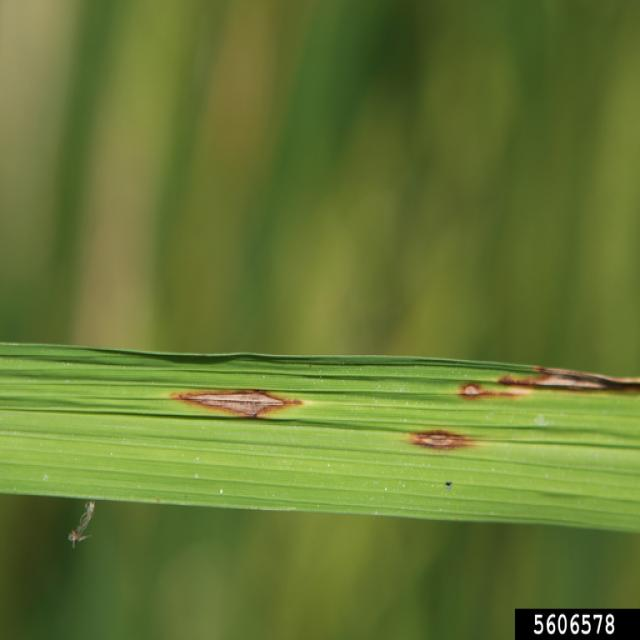Brown spot: (454, 362, 640, 404), (166, 382, 312, 419), (398, 422, 475, 452)
